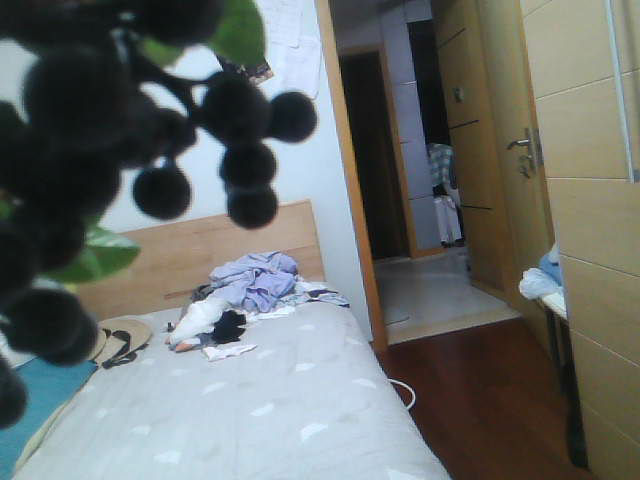blueberry: (1, 110, 129, 201), (15, 196, 85, 274), (24, 45, 123, 99), (7, 286, 88, 347), (222, 150, 297, 194), (136, 165, 192, 216), (270, 86, 320, 140), (146, 103, 193, 150), (203, 69, 253, 105), (228, 193, 279, 226), (150, 112, 194, 148)
